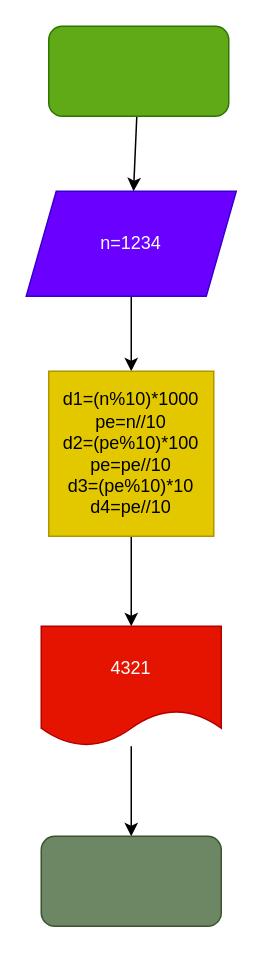
Image size: 263x953. Some labels were removed from this diagram. Each missing label, with the box of its shape:
FIN: (40, 835, 221, 926)
INICIO: (47, 25, 229, 116)
